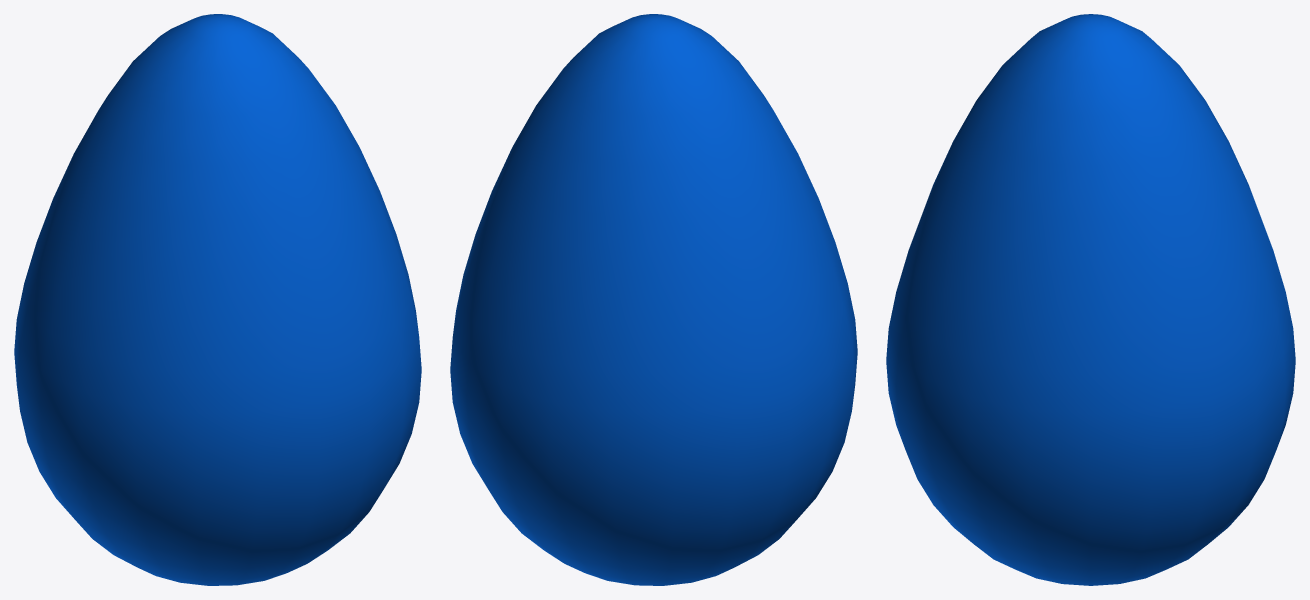
File: gem_2.fbx
The picture shows the model from 3 angles, left to right: view 1: azimuth 30°, elevation 25°; view 2: azimuth 150°, elevation 25°; view 3: azimuth 270°, elevation 25°; orthographic projection.
Parts seen in each view (by area): view 1: pasted__pSphere1; view 2: pasted__pSphere1; view 3: pasted__pSphere1.
Part boxes in pixels (<box>): pasted__pSphere1: <box>14,14,421,585</box>; pasted__pSphere1: <box>450,14,857,585</box>; pasted__pSphere1: <box>886,14,1295,585</box>.
Bounding box in the file's own units: 3.99 × 5.9 × 3.99.
